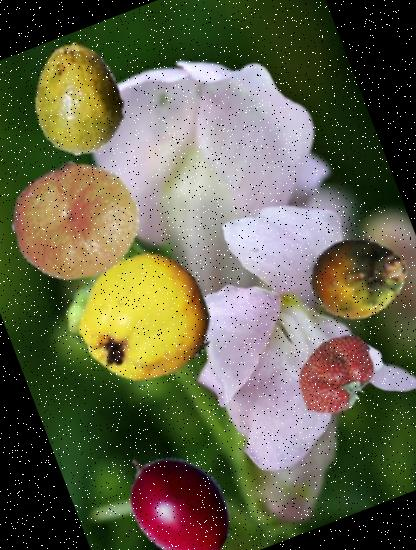Cactus: (298, 219, 416, 338)
Guava: (7, 25, 153, 171)
Mandarine: (0, 136, 159, 303)
Quince: (61, 232, 232, 404)
Strawberry: (278, 319, 392, 433)
Tamarillo: (97, 426, 255, 550)
